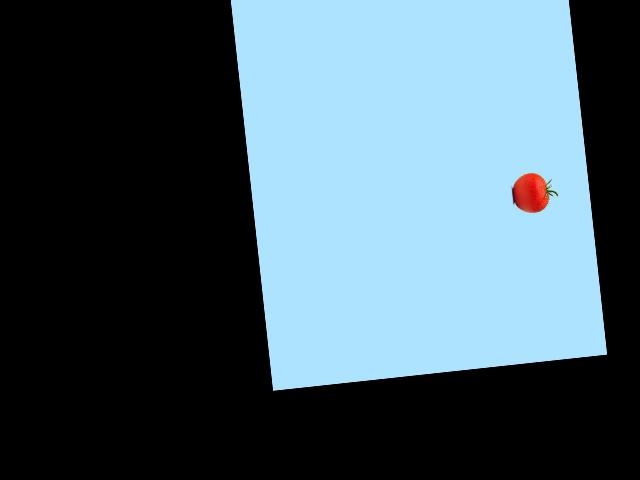tomato: (511, 170, 550, 214)
